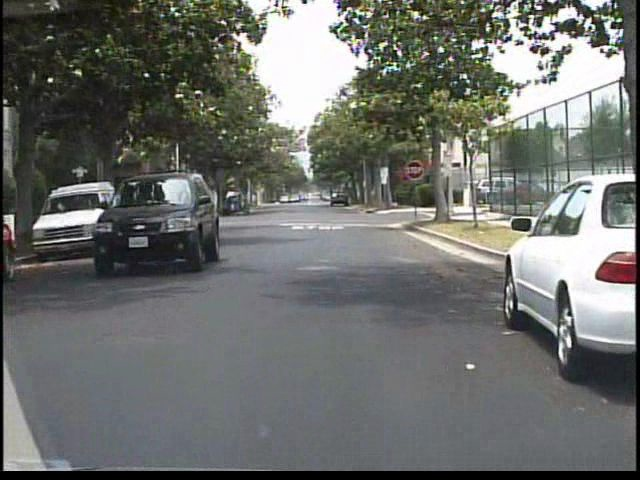person: (233, 180, 253, 222)
